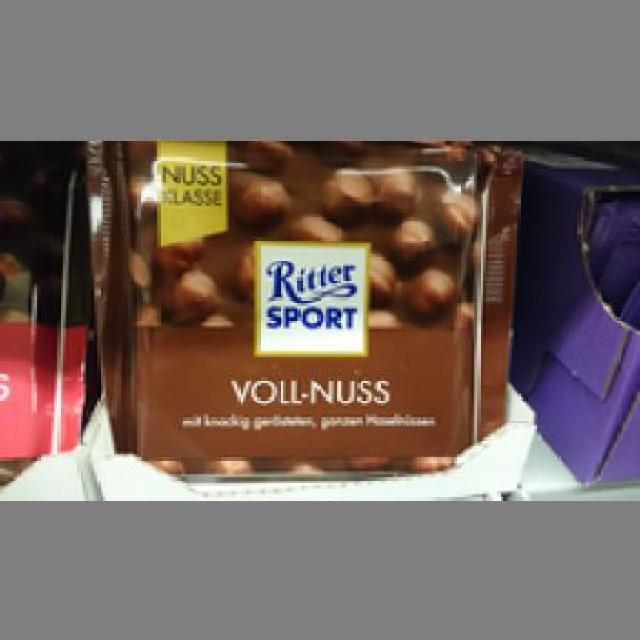Chocolate: (83, 137, 526, 472)
